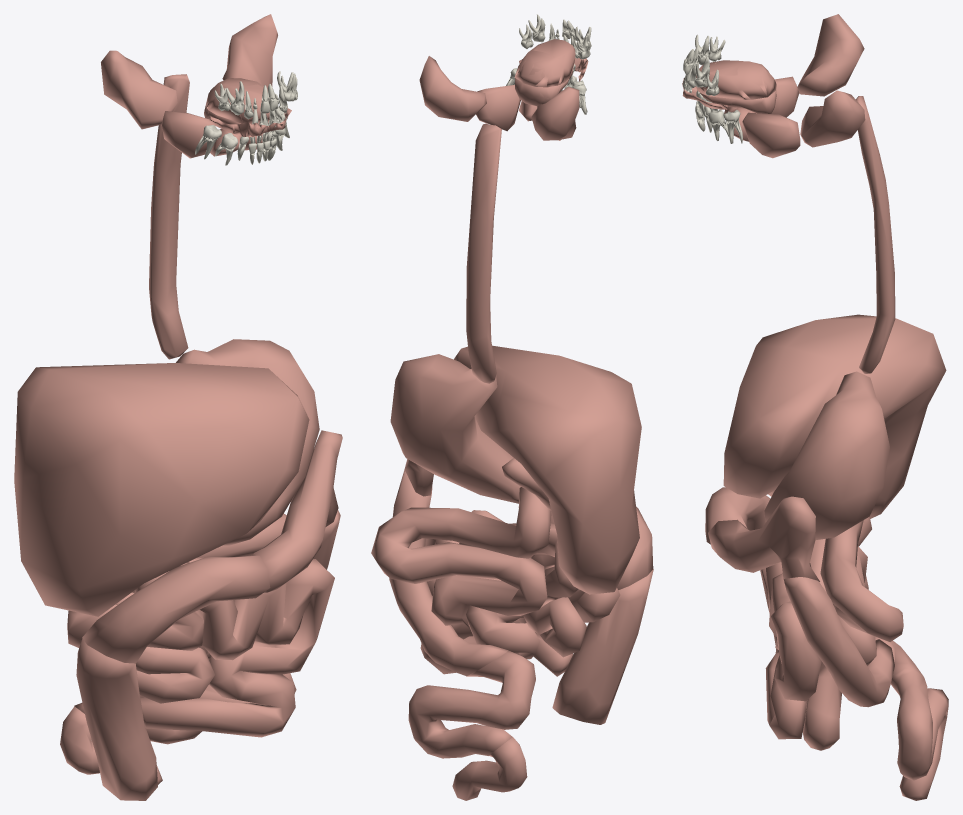
The model's file is pediatric_infant_female.digestive.LOD2.glb.
The picture shows the model from 3 angles, left to right: view 1: azimuth 30°, elevation 25°; view 2: azimuth 150°, elevation 25°; view 3: azimuth 270°, elevation 25°; orthographic projection. The views are drawn at different scales.
Parts seen in each view (by area): view 1: PEDIATRIC.INFANT.FEMALE.DIGESTIVE.LIVER, PEDIATRIC.INFANT.FEMALE.DIGESTIVE.SMALL_INTESTINE_WALL, PEDIATRIC.INFANT.FEMALE.DIGESTIVE.TRANSVERSE_COLON_WALL.R, PEDIATRIC.INFANT.FEMALE.DIGESTIVE.ASCENDING_COLON_WALL, PEDIATRIC.INFANT.FEMALE.DIGESTIVE.OESOPHAGUS_WALL, PEDIATRIC.INFANT.FEMALE.DIGESTIVE.TRANSVERSE_COLON_WALL.L, PEDIATRIC.INFANT.FEMALE.DIGESTIVE.SALIVARY_GLANDS.R, PEDIATRIC.INFANT.FEMALE.DIGESTIVE.STOMACH_WALL, PEDIATRIC.INFANT.FEMALE.DIGESTIVE.SALIVARY_GLANDS.L, PEDIATRIC.INFANT.FEMALE.DIGESTIVE.RECTUM_WALL, PEDIATRIC.INFANT.FEMALE.DIGESTIVE.DECIDUOUS_CEMENTUM, PEDIATRIC.INFANT.FEMALE.DIGESTIVE.ORAL_MUCOSA_MOUTH_FLOOR (+5 smaller); view 2: PEDIATRIC.INFANT.FEMALE.DIGESTIVE.LIVER, PEDIATRIC.INFANT.FEMALE.DIGESTIVE.SMALL_INTESTINE_WALL, PEDIATRIC.INFANT.FEMALE.DIGESTIVE.STOMACH_WALL, PEDIATRIC.INFANT.FEMALE.DIGESTIVE.SIGMOID_COLON_WALL, PEDIATRIC.INFANT.FEMALE.DIGESTIVE.ASCENDING_COLON_WALL, PEDIATRIC.INFANT.FEMALE.DIGESTIVE.OESOPHAGUS_WALL, PEDIATRIC.INFANT.FEMALE.DIGESTIVE.DESCENDING_COLON_WALL, PEDIATRIC.INFANT.FEMALE.DIGESTIVE.SALIVARY_GLANDS.L, PEDIATRIC.INFANT.FEMALE.DIGESTIVE.RECTUM_WALL, PEDIATRIC.INFANT.FEMALE.DIGESTIVE.ORAL_MUCOSA_MOUTH_FLOOR, PEDIATRIC.INFANT.FEMALE.DIGESTIVE.SALIVARY_GLANDS.R, PEDIATRIC.INFANT.FEMALE.DIGESTIVE.TRANSVERSE_COLON_WALL.R (+5 smaller); view 3: PEDIATRIC.INFANT.FEMALE.DIGESTIVE.LIVER, PEDIATRIC.INFANT.FEMALE.DIGESTIVE.SMALL_INTESTINE_WALL, PEDIATRIC.INFANT.FEMALE.DIGESTIVE.STOMACH_WALL, PEDIATRIC.INFANT.FEMALE.DIGESTIVE.DESCENDING_COLON_WALL, PEDIATRIC.INFANT.FEMALE.DIGESTIVE.TRANSVERSE_COLON_WALL.L, PEDIATRIC.INFANT.FEMALE.DIGESTIVE.SALIVARY_GLANDS.L, PEDIATRIC.INFANT.FEMALE.DIGESTIVE.SIGMOID_COLON_WALL, PEDIATRIC.INFANT.FEMALE.DIGESTIVE.OESOPHAGUS_WALL, PEDIATRIC.INFANT.FEMALE.DIGESTIVE.SALIVARY_GLANDS.R, PEDIATRIC.INFANT.FEMALE.DIGESTIVE.ORAL_MUCOSA_MOUTH_FLOOR, PEDIATRIC.INFANT.FEMALE.DIGESTIVE.TRANSVERSE_COLON_WALL.R, PEDIATRIC.INFANT.FEMALE.DIGESTIVE.DECIDUOUS_CEMENTUM (+3 smaller).
Part boxes in pixels (left/top/right/bottom): PEDIATRIC.INFANT.FEMALE.DIGESTIVE.LIVER: left=14, top=363, right=309, bottom=616; PEDIATRIC.INFANT.FEMALE.DIGESTIVE.SMALL_INTESTINE_WALL: left=67, top=513, right=334, bottom=737; PEDIATRIC.INFANT.FEMALE.DIGESTIVE.TRANSVERSE_COLON_WALL.R: left=82, top=555, right=270, bottom=663; PEDIATRIC.INFANT.FEMALE.DIGESTIVE.ASCENDING_COLON_WALL: left=76, top=638, right=157, bottom=800; PEDIATRIC.INFANT.FEMALE.DIGESTIVE.OESOPHAGUS_WALL: left=149, top=74, right=189, bottom=359; PEDIATRIC.INFANT.FEMALE.DIGESTIVE.TRANSVERSE_COLON_WALL.L: left=252, top=430, right=342, bottom=592; PEDIATRIC.INFANT.FEMALE.DIGESTIVE.SALIVARY_GLANDS.R: left=101, top=50, right=241, bottom=158; PEDIATRIC.INFANT.FEMALE.DIGESTIVE.STOMACH_WALL: left=176, top=339, right=319, bottom=545; PEDIATRIC.INFANT.FEMALE.DIGESTIVE.SALIVARY_GLANDS.L: left=222, top=14, right=277, bottom=150; PEDIATRIC.INFANT.FEMALE.DIGESTIVE.RECTUM_WALL: left=60, top=706, right=162, bottom=784; PEDIATRIC.INFANT.FEMALE.DIGESTIVE.DECIDUOUS_CEMENTUM: left=195, top=71, right=297, bottom=165; PEDIATRIC.INFANT.FEMALE.DIGESTIVE.ORAL_MUCOSA_MOUTH_FLOOR: left=205, top=78, right=269, bottom=124; PEDIATRIC.INFANT.FEMALE.DIGESTIVE.LIVER: left=454, top=345, right=641, bottom=594; PEDIATRIC.INFANT.FEMALE.DIGESTIVE.SMALL_INTESTINE_WALL: left=371, top=487, right=620, bottom=676; PEDIATRIC.INFANT.FEMALE.DIGESTIVE.STOMACH_WALL: left=390, top=354, right=520, bottom=503; PEDIATRIC.INFANT.FEMALE.DIGESTIVE.SIGMOID_COLON_WALL: left=408, top=650, right=535, bottom=758; PEDIATRIC.INFANT.FEMALE.DIGESTIVE.ASCENDING_COLON_WALL: left=552, top=569, right=653, bottom=724; PEDIATRIC.INFANT.FEMALE.DIGESTIVE.OESOPHAGUS_WALL: left=466, top=123, right=501, bottom=383; PEDIATRIC.INFANT.FEMALE.DIGESTIVE.DESCENDING_COLON_WALL: left=389, top=469, right=508, bottom=676; PEDIATRIC.INFANT.FEMALE.DIGESTIVE.SALIVARY_GLANDS.L: left=419, top=56, right=537, bottom=131; PEDIATRIC.INFANT.FEMALE.DIGESTIVE.RECTUM_WALL: left=452, top=737, right=527, bottom=800; PEDIATRIC.INFANT.FEMALE.DIGESTIVE.ORAL_MUCOSA_MOUTH_FLOOR: left=514, top=39, right=575, bottom=87; PEDIATRIC.INFANT.FEMALE.DIGESTIVE.SALIVARY_GLANDS.R: left=531, top=86, right=579, bottom=140; PEDIATRIC.INFANT.FEMALE.DIGESTIVE.TRANSVERSE_COLON_WALL.R: left=617, top=506, right=653, bottom=589; PEDIATRIC.INFANT.FEMALE.DIGESTIVE.LIVER: left=723, top=314, right=946, bottom=518; PEDIATRIC.INFANT.FEMALE.DIGESTIVE.SMALL_INTESTINE_WALL: left=765, top=517, right=903, bottom=750; PEDIATRIC.INFANT.FEMALE.DIGESTIVE.STOMACH_WALL: left=764, top=371, right=889, bottom=540; PEDIATRIC.INFANT.FEMALE.DIGESTIVE.DESCENDING_COLON_WALL: left=783, top=577, right=894, bottom=707; PEDIATRIC.INFANT.FEMALE.DIGESTIVE.TRANSVERSE_COLON_WALL.L: left=708, top=496, right=819, bottom=581; PEDIATRIC.INFANT.FEMALE.DIGESTIVE.SALIVARY_GLANDS.L: left=731, top=90, right=865, bottom=158; PEDIATRIC.INFANT.FEMALE.DIGESTIVE.SIGMOID_COLON_WALL: left=875, top=636, right=948, bottom=780; PEDIATRIC.INFANT.FEMALE.DIGESTIVE.OESOPHAGUS_WALL: left=856, top=96, right=895, bottom=373; PEDIATRIC.INFANT.FEMALE.DIGESTIVE.SALIVARY_GLANDS.R: left=724, top=14, right=864, bottom=117; PEDIATRIC.INFANT.FEMALE.DIGESTIVE.ORAL_MUCOSA_MOUTH_FLOOR: left=695, top=60, right=776, bottom=99; PEDIATRIC.INFANT.FEMALE.DIGESTIVE.TRANSVERSE_COLON_WALL.R: left=705, top=487, right=770, bottom=544; PEDIATRIC.INFANT.FEMALE.DIGESTIVE.DECIDUOUS_CEMENTUM: left=685, top=34, right=742, bottom=143.
Size of the model in its own units: 0.1366 by 0.3661 by 0.1173.
